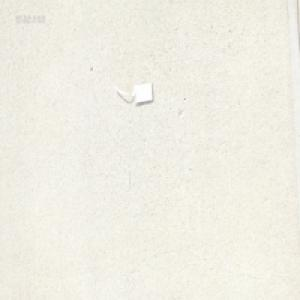LuggageTag: (112, 80, 153, 105)
